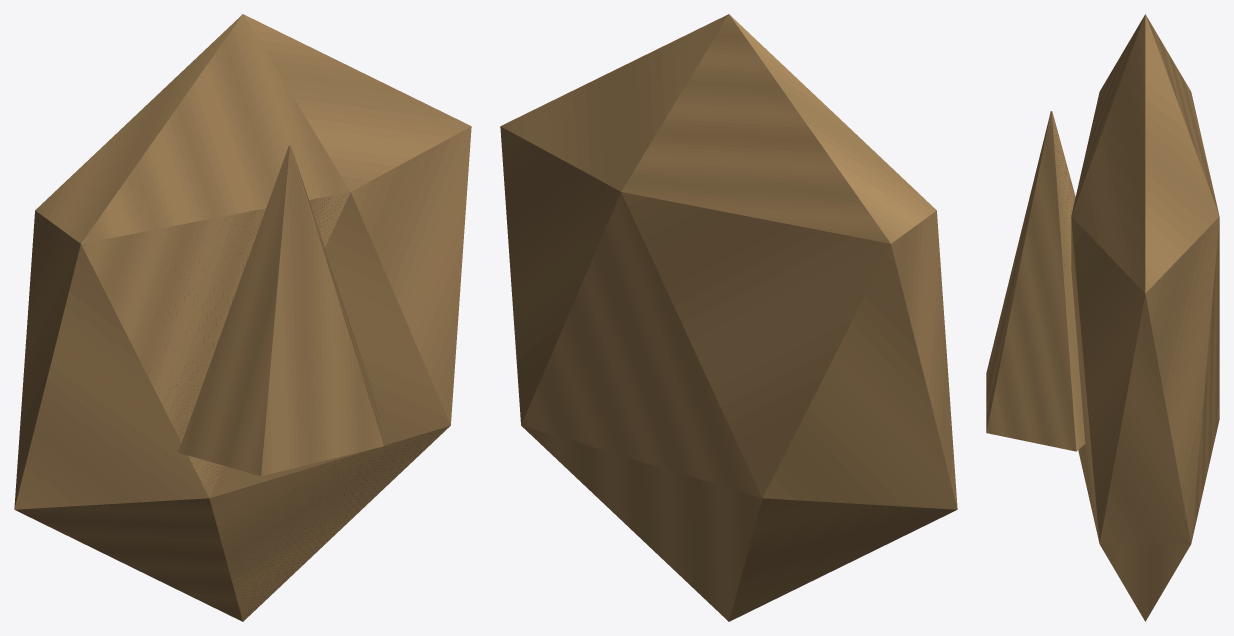
File: expire_burst.glb
3 views of the same model, side by side, from view 1: azimuth 30°, elevation 25°; view 2: azimuth 150°, elevation 25°; view 3: azimuth 270°, elevation 25° (orthographic).
Visible parts, largest first — view 1: gear_expire_burst; view 2: gear_expire_burst; view 3: gear_expire_burst.
Boxes of the visible parts, bbox=[...] form: gear_expire_burst: bbox=[14, 14, 471, 621]; gear_expire_burst: bbox=[500, 14, 957, 621]; gear_expire_burst: bbox=[986, 14, 1219, 621].
Bounding box in the file's own units: 0.3935 × 0.5 × 0.1738.
1 material, 1 textured.
